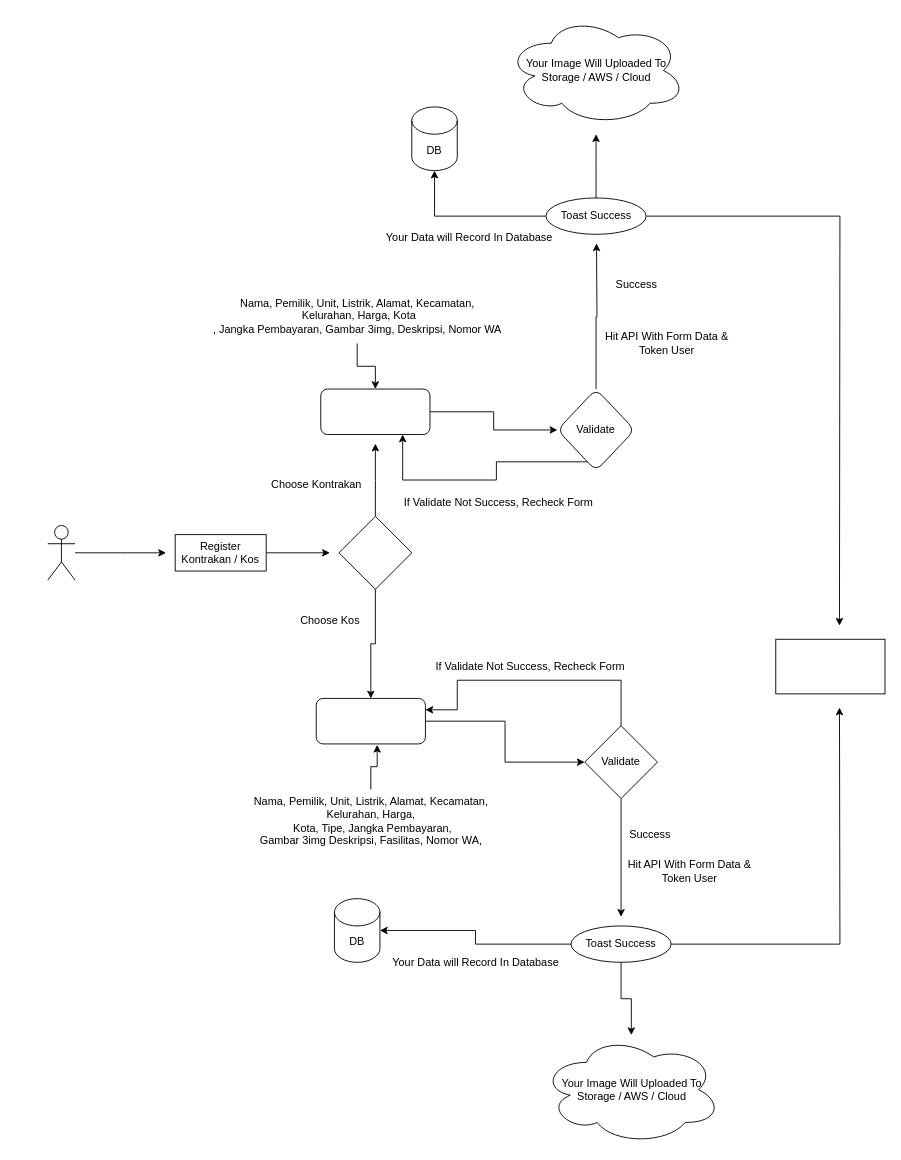
Some shapes in this 901 by 1160 pixel diagram are drawn without their labels. Each missing label, with the centre of its shape:
"Back To Main Screen, With Data Your Upload" belongs at [830,666].
"Button Toggle" belongs at [375,552].
"Form Kontrakan" belongs at [375,411].
"Form Kos" belongs at [370,721].
"User Already Login" belongs at [61,552].
